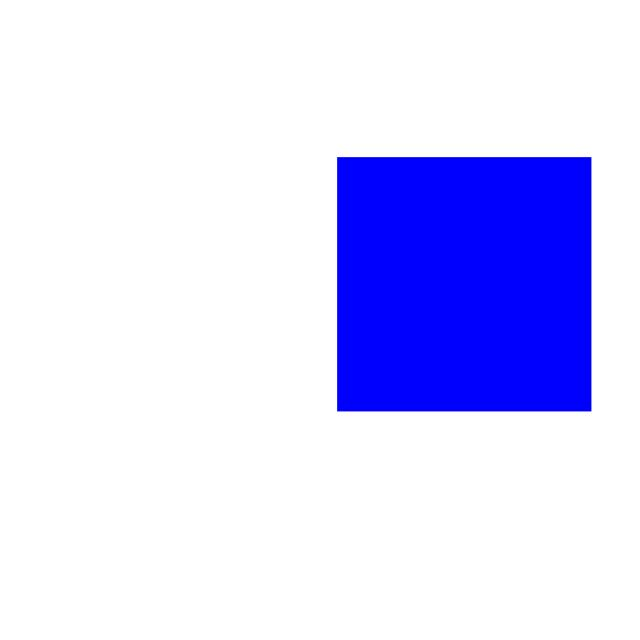square: (306, 123, 620, 436)
